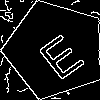E: (30, 25, 87, 82)
